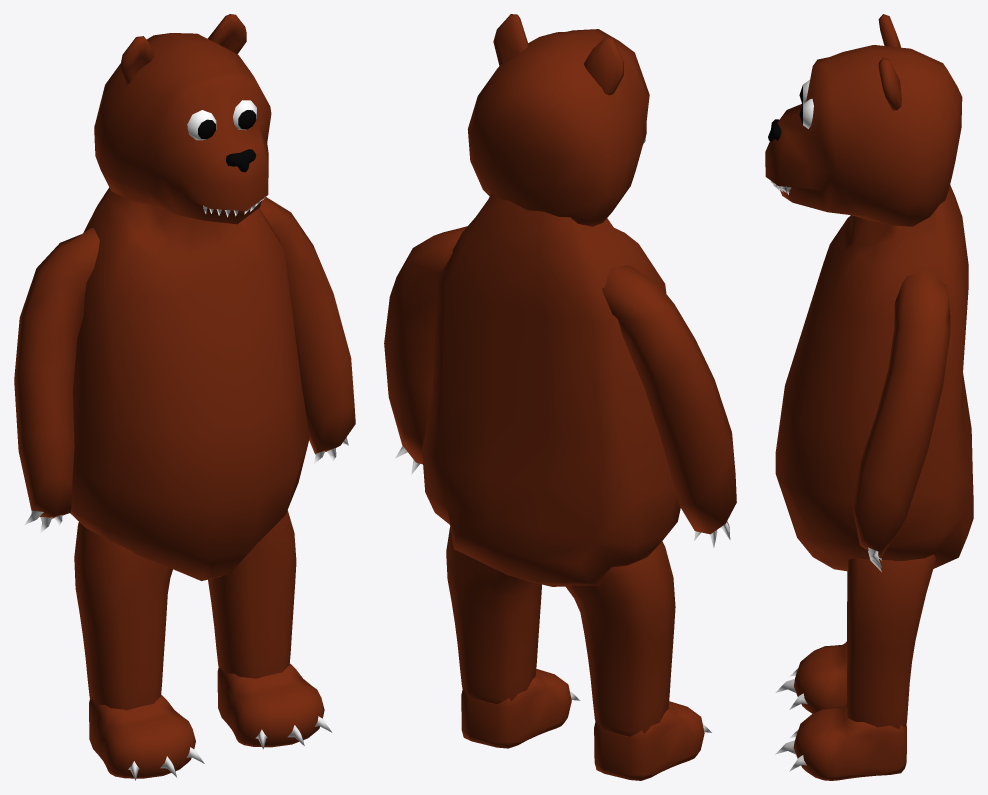
Rendered from BearMesh.FBX.
The picture shows the model from 3 angles, left to right: view 1: azimuth 30°, elevation 25°; view 2: azimuth 150°, elevation 25°; view 3: azimuth 270°, elevation 25°; orthographic projection. The views are drawn at different scales.
Visible parts, largest first — view 1: BearBody, BearHead, BearRightArm, BearRightLegs, BearLeftArm, BearLeftLeg, BearRigthFeet, BearLeftFeet, BearEar, BearEye; view 2: BearBody, BearHead, BearRightArm, BearRightLegs, BearLeftLeg, BearLeftArm, BearLeftFeet, BearRigthFeet, BearEar; view 3: BearBody, BearHead, BearLeftArm, BearLeftLeg, BearLeftFeet, BearRigthFeet, BearEar, BearEye.
Part boxes in pixels (x1,y1,x2,y2): BearBody: (70,187,309,580); BearHead: (94,33,271,224); BearRightArm: (14,228,99,518); BearRightLegs: (74,522,172,710); BearLeftArm: (259,197,355,454); BearLeftLeg: (208,510,296,678); BearRigthFeet: (89,695,195,778); BearLeftFeet: (217,663,324,747); BearEar: (120,14,246,84); BearEye: (187,100,256,140); BearBody: (422,193,680,586); BearHead: (467,29,649,226); BearRightArm: (602,265,736,534); BearRightLegs: (566,541,675,736); BearLeftLeg: (446,527,541,704); BearLeftArm: (384,226,466,464); BearLeftFeet: (461,669,571,748); BearRigthFeet: (594,701,704,780); BearEar: (493,14,623,95); BearBody: (775,185,973,571); BearHead: (765,45,962,226); BearLeftArm: (852,270,950,558); BearLeftLeg: (847,554,935,728); BearLeftFeet: (793,703,906,780); BearRigthFeet: (794,641,847,713); BearEar: (878,14,901,110); BearEye: (799,80,813,128).
Size of the model in its own units: 49.09 by 101 by 27.35.
